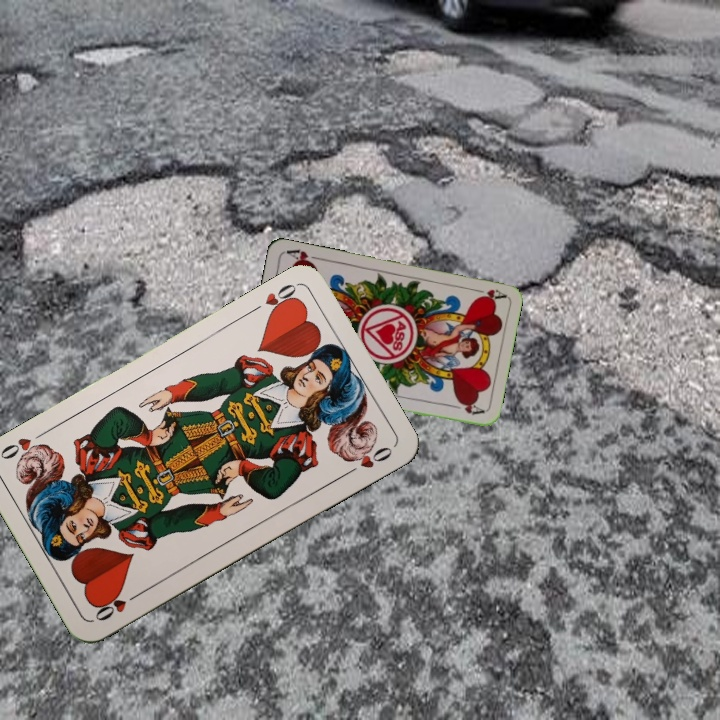HA: (467, 284, 507, 303)
HO: (246, 279, 302, 319), (90, 588, 144, 624)
